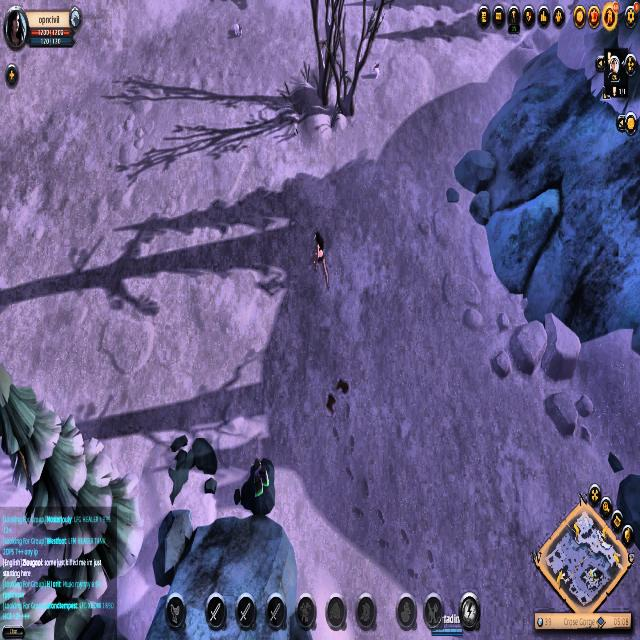tin_ore: (240, 453, 279, 519)
